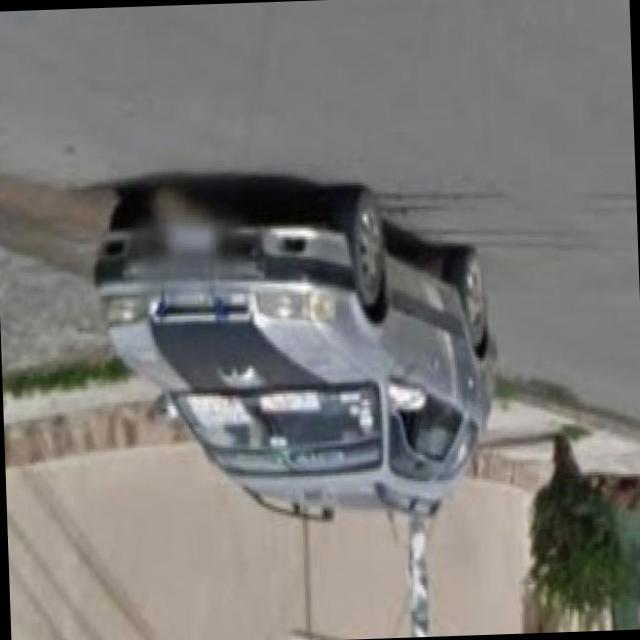car: (94, 178, 503, 530)
